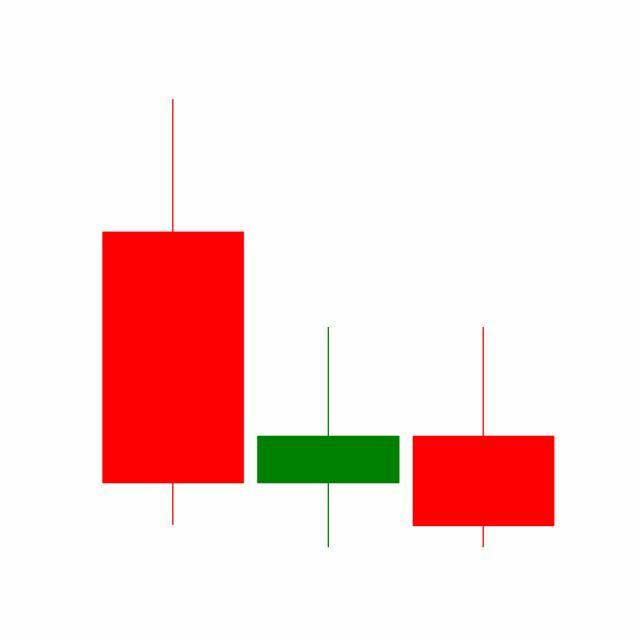Spinning Top: (250, 325, 407, 551)
